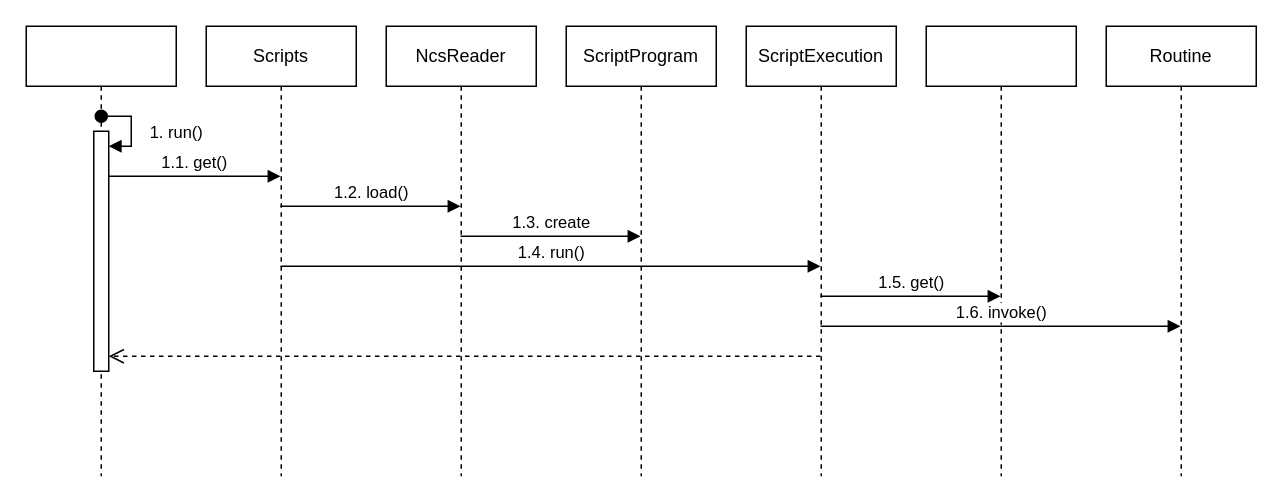
Image size: 1283x503. Some labels were removed from this diagram. Here are the shapes that lost their labels. From the top down, the box of each, then its label:
(25, 25, 176, 476): ScriptRunner
(925, 25, 1076, 476): Routines
